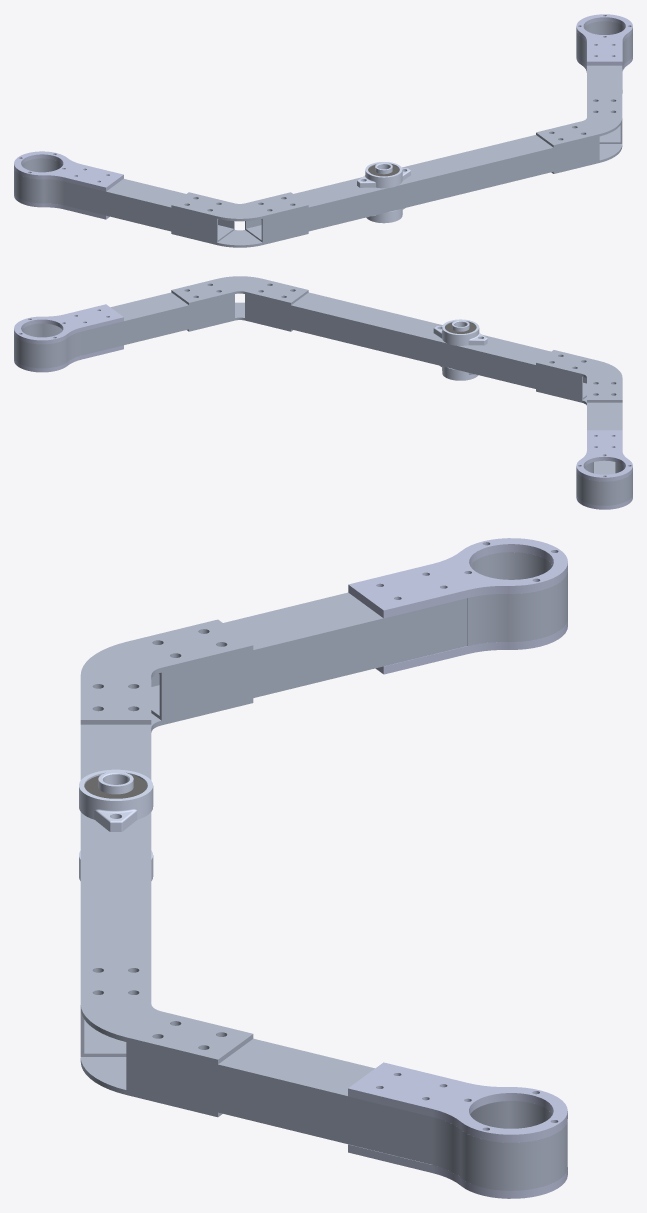
3 views of the same model, one above another, from view 1: azimuth 30°, elevation 25°; view 2: azimuth 150°, elevation 25°; view 3: azimuth 270°, elevation 25° (orthographic). The views are drawn at different scales.
Visible parts, largest first — view 1: LL; view 2: LL; view 3: LL.
Boxes of the visible parts, box(x1,y1,x2,y2) form: LL: box(14, 14, 632, 247); LL: box(14, 276, 632, 509); LL: box(79, 538, 567, 1198).
Size of the model in its own units: 0.7986 by 0.065 by 0.2767.
